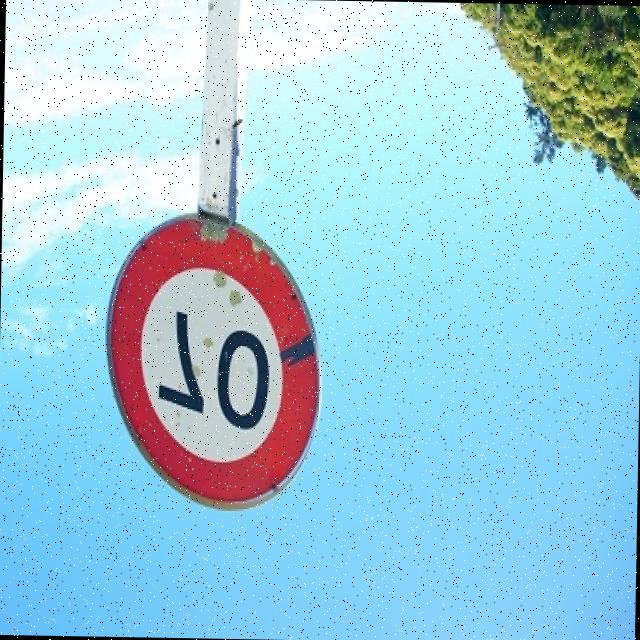speed_limit_70: (97, 208, 326, 518)
